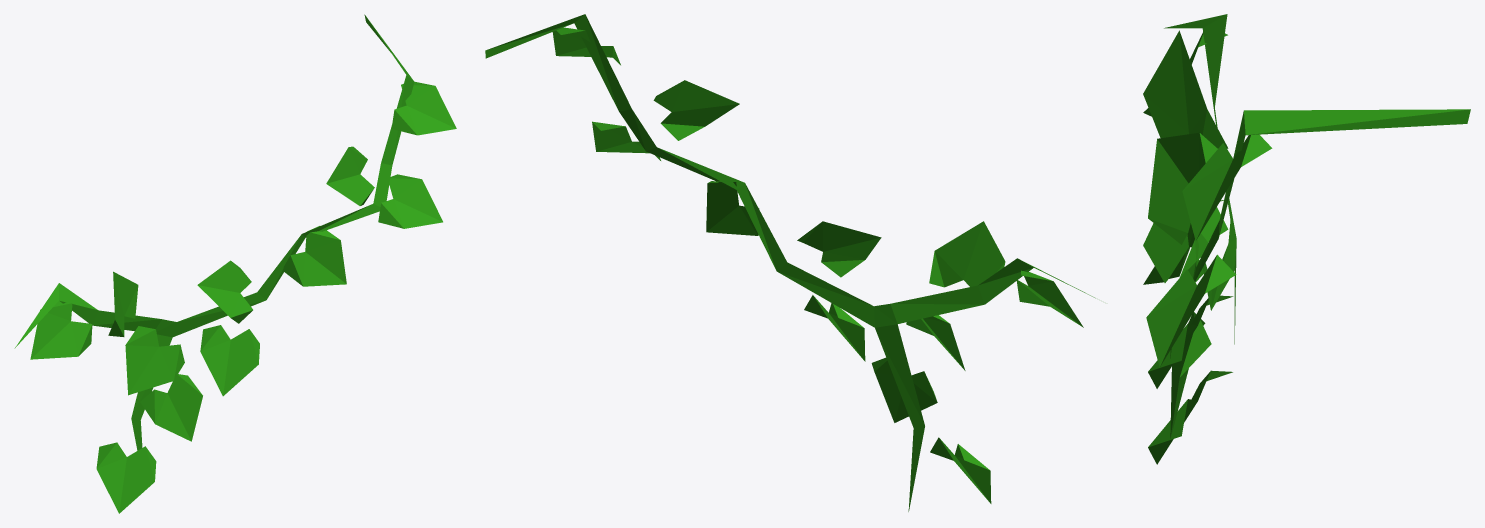
The model's file is liere.obj.
3 views of the same model, side by side, from view 1: azimuth 30°, elevation 25°; view 2: azimuth 150°, elevation 25°; view 3: azimuth 270°, elevation 25° (orthographic). The views are drawn at different scales.
Size of the model in its own units: 0.9647 by 0.7351 by 0.3321.
